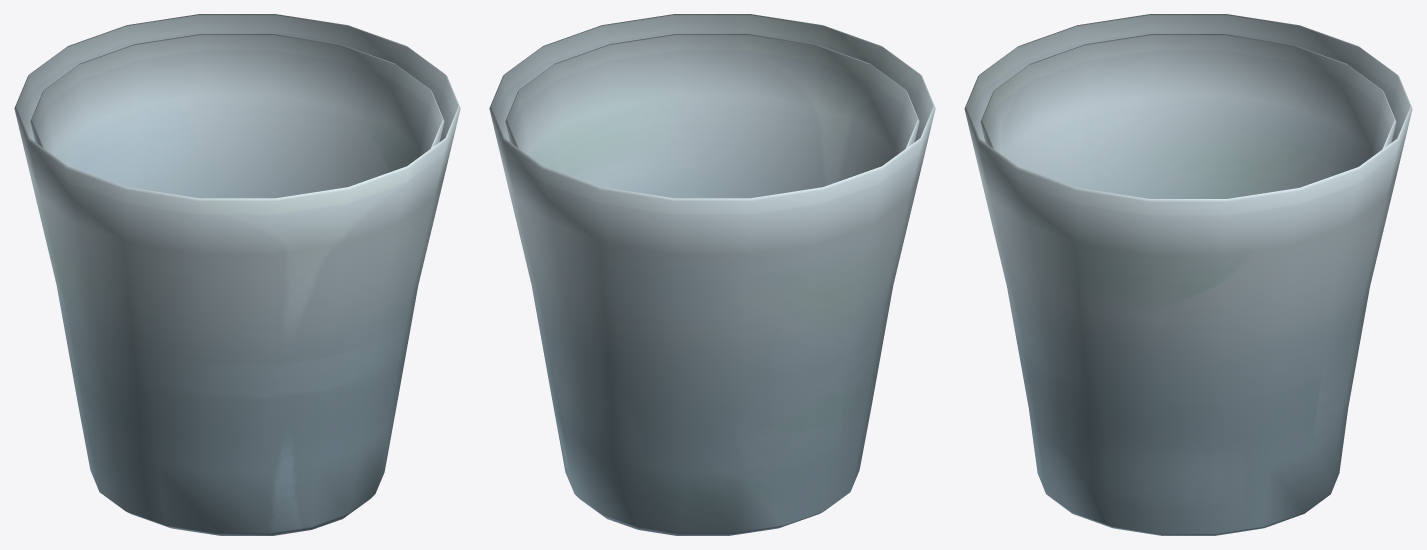
Rendered from Trash.fbx.
3 renders of one model, left to right at view 1: azimuth 30°, elevation 25°; view 2: azimuth 150°, elevation 25°; view 3: azimuth 270°, elevation 25°, orthographic.
Parts seen in each view (by area): view 1: Trash; view 2: Trash; view 3: Trash.
Boxes of the visible parts, bbox=[...] form: Trash: bbox=[14, 14, 460, 535]; Trash: bbox=[489, 14, 935, 535]; Trash: bbox=[964, 14, 1412, 535].
Size of the model in its own units: 66.13 by 61.34 by 67.15.
